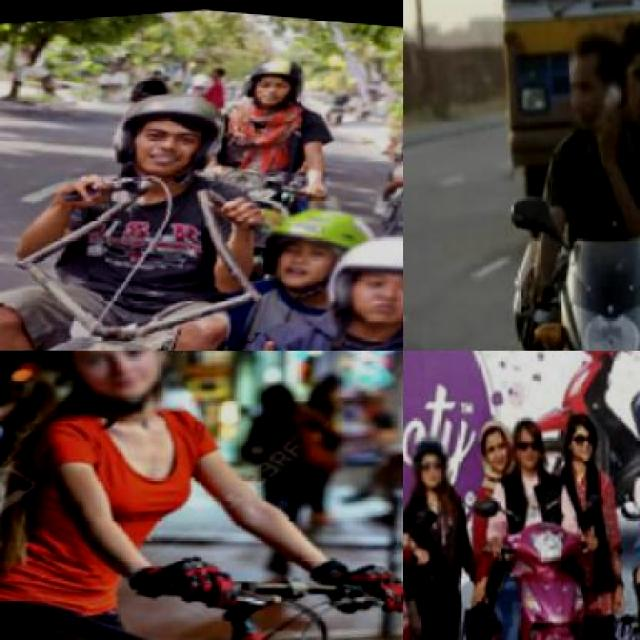With Helmet: (260, 178, 397, 305), (104, 64, 239, 190), (20, 351, 200, 431), (317, 208, 401, 335), (238, 38, 314, 113), (405, 421, 464, 496)
Without Helmet: (562, 8, 638, 137), (475, 405, 531, 481), (505, 401, 557, 472), (612, 0, 638, 123)
